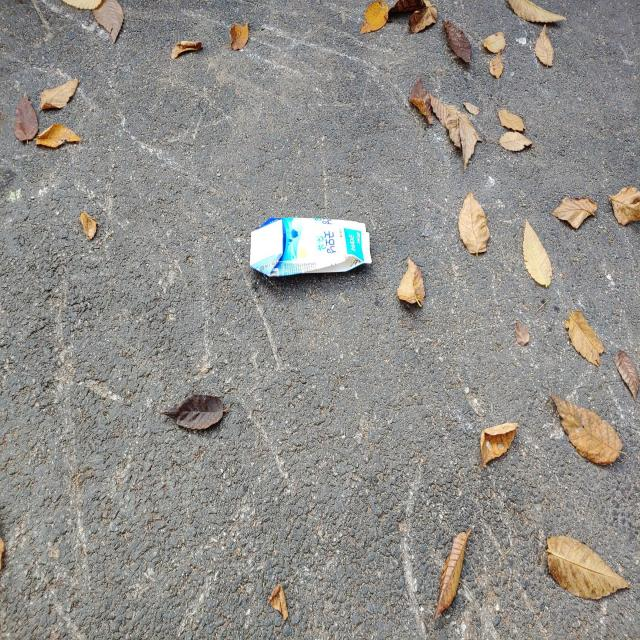paperpack: (251, 216, 372, 277)
